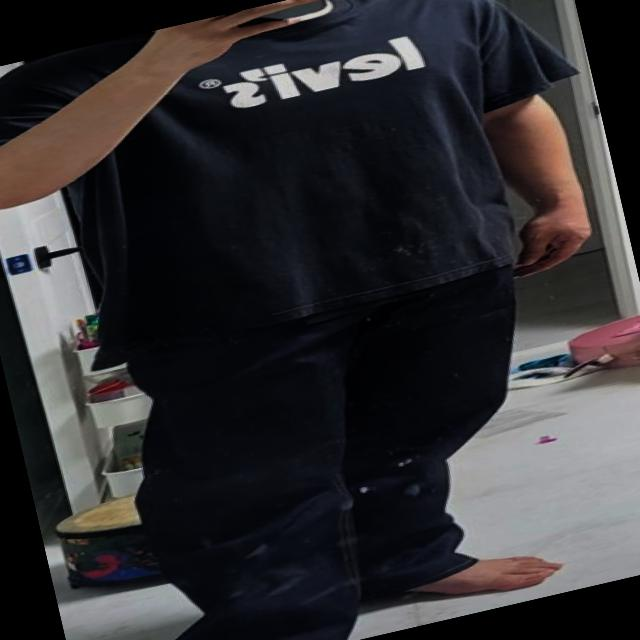denimpants: (112, 271, 574, 640)
shortsleeve: (0, 0, 612, 391)
